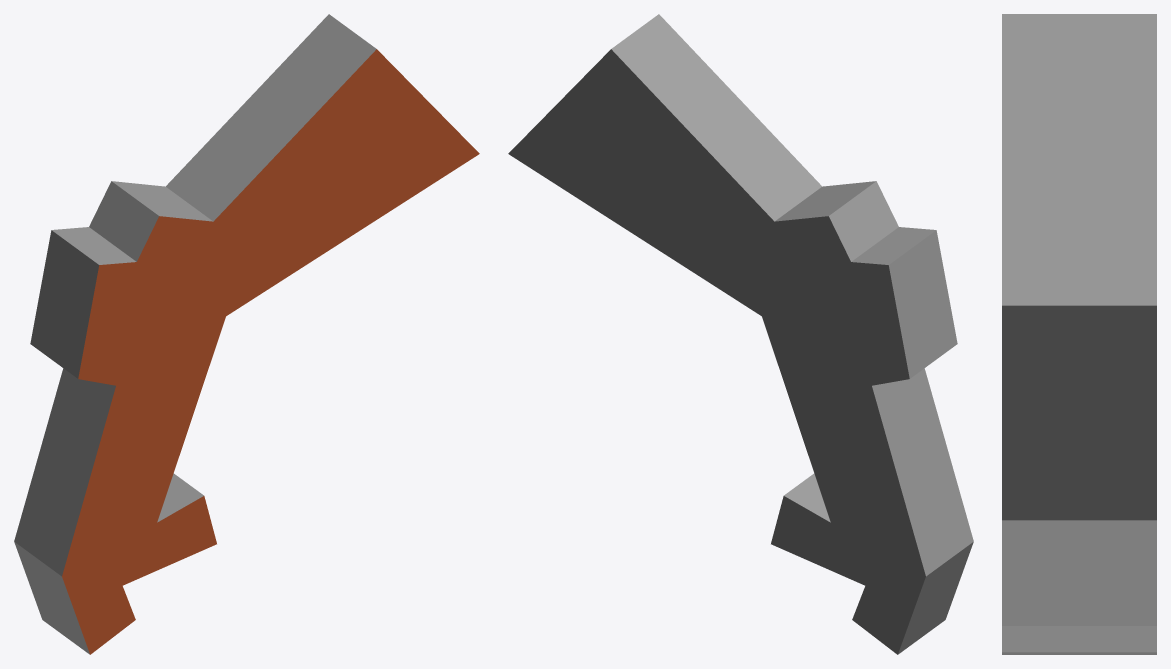
The model's file is construction_5405_assumed_A_Casa_h6m.obj.
The picture shows the model from 3 angles, left to right: view 1: azimuth 30°, elevation 25°; view 2: azimuth 150°, elevation 25°; view 3: azimuth 270°, elevation 25°; orthographic projection. The views are drawn at different scales.
Parts seen in each view (by area): view 1: construction_5405_assumed_A_Casa; view 2: construction_5405_assumed_A_Casa; view 3: construction_5405_assumed_A_Casa.
Part boxes in pixels (x1,y1,x2,y2): construction_5405_assumed_A_Casa: (14, 14, 479, 654); construction_5405_assumed_A_Casa: (508, 14, 973, 654); construction_5405_assumed_A_Casa: (1002, 14, 1156, 654).
Bounding box in the file's own units: 30.24 × 37.06 × 6.
